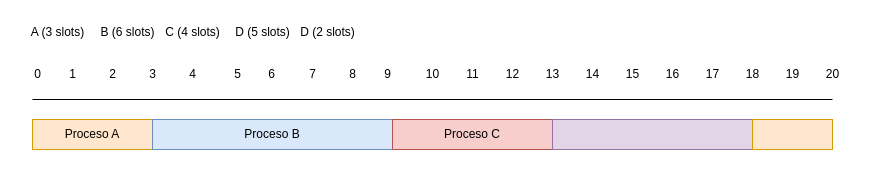
Some shapes in this 869 by 175 pixel diagram are drawn without their labels. The centre of each missing label's shape, as x and y in pixels:
Proceso D: point 652,134
Proceso E: point 792,134
